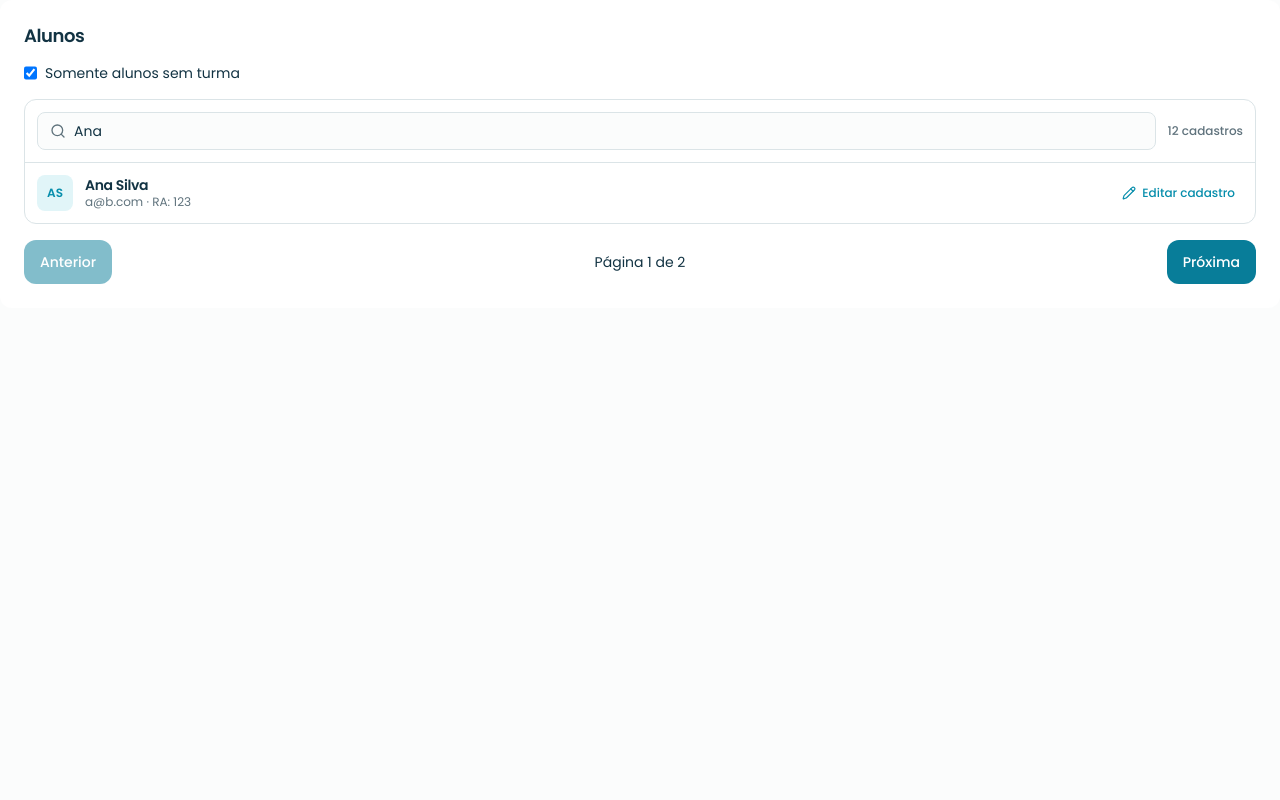
Test: formulário preserva dados ao falhar e lista permite editar/cancelar
Earlier steps of the test are not shown.
Click the button "Próxima".
click(1211, 262)  # box [1167,240,1256,284]
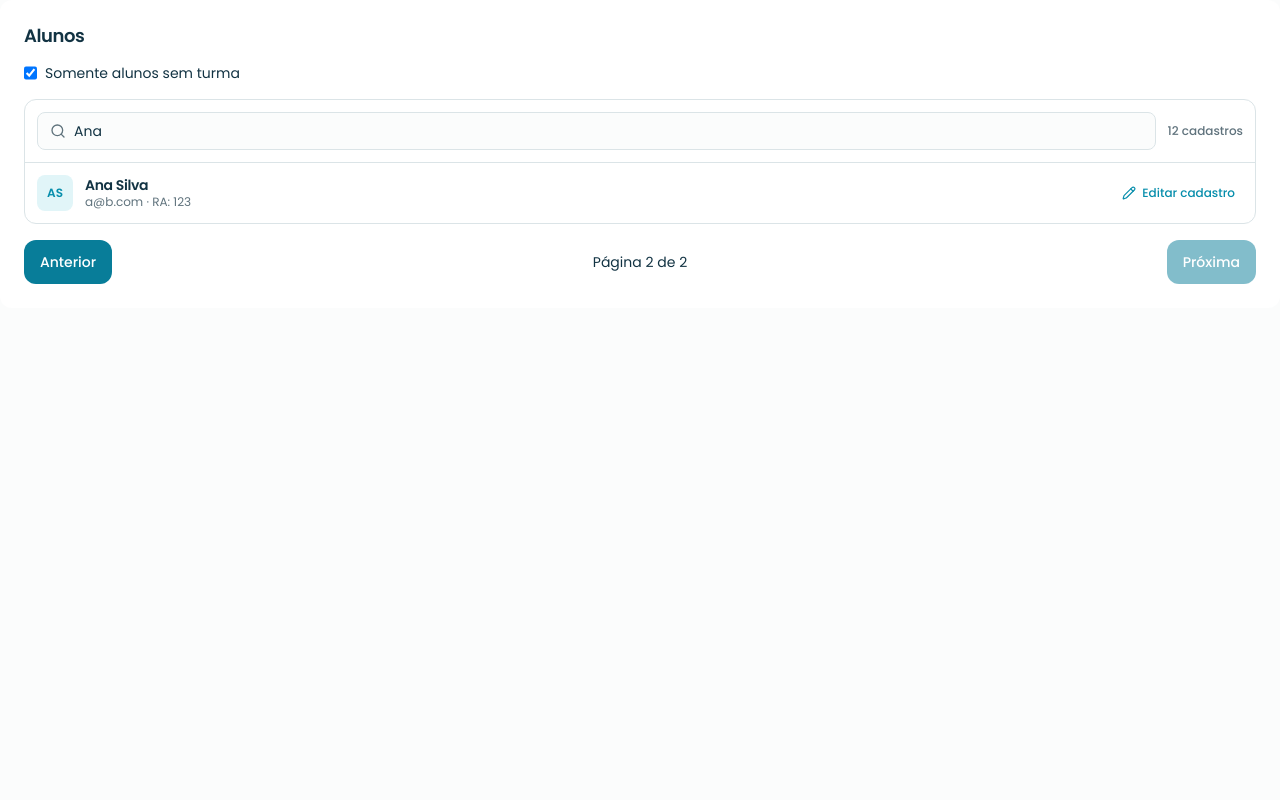
Click the button "Anterior".
click(68, 262)  # box [24,240,112,284]
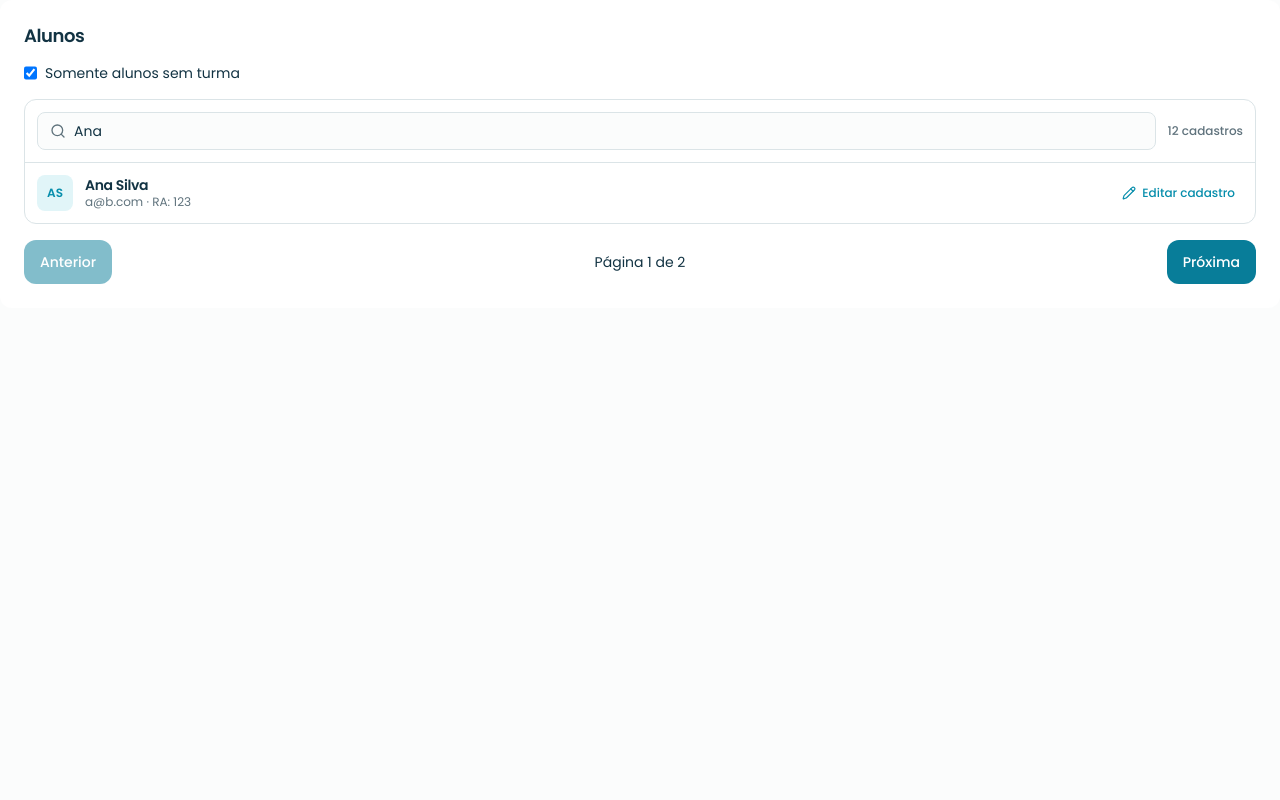
Click the button with aria-label "Editar cadastro de".
click(1179, 193)  # box [1114,181,1243,205]
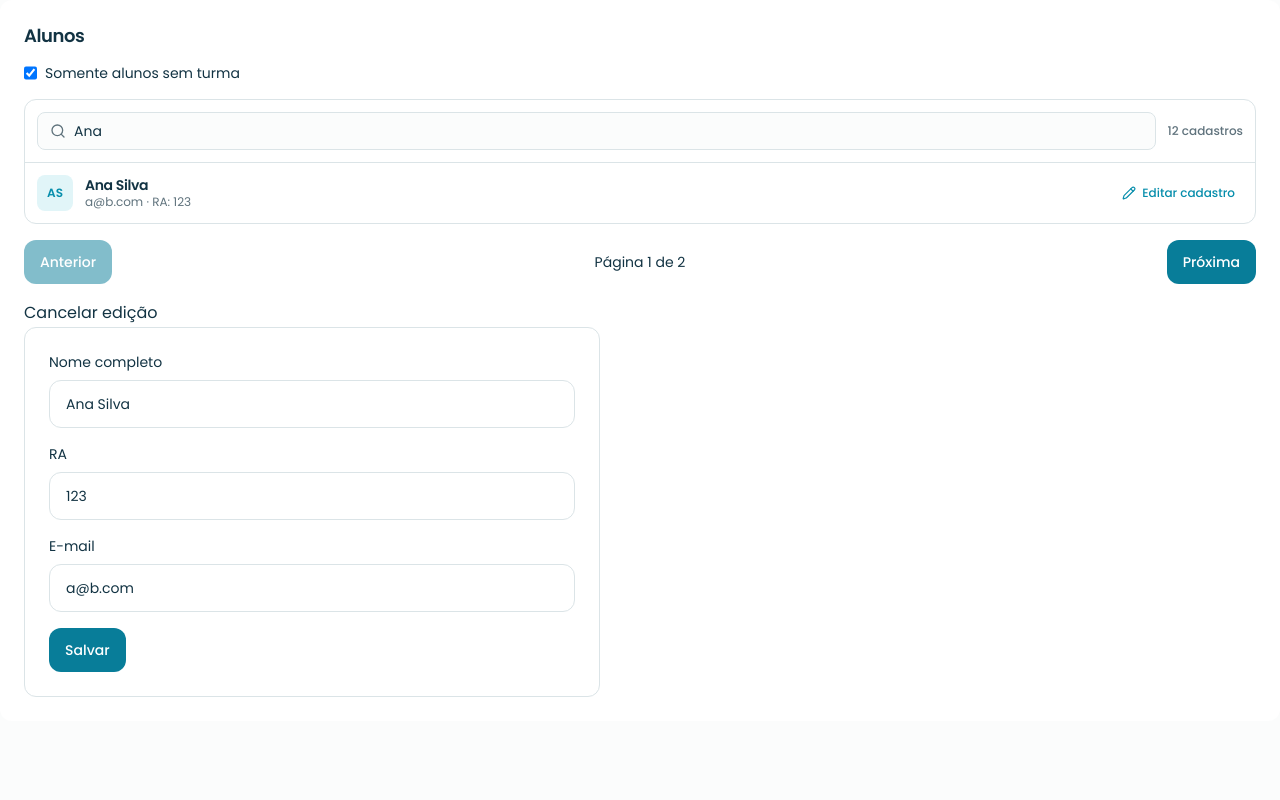
Submit the form, box [24,327,600,697]
Expected: the field labelled "Nome completo" holds "Ana Silva", [49,380,575,428]
Submit the form, box [24,327,600,697]
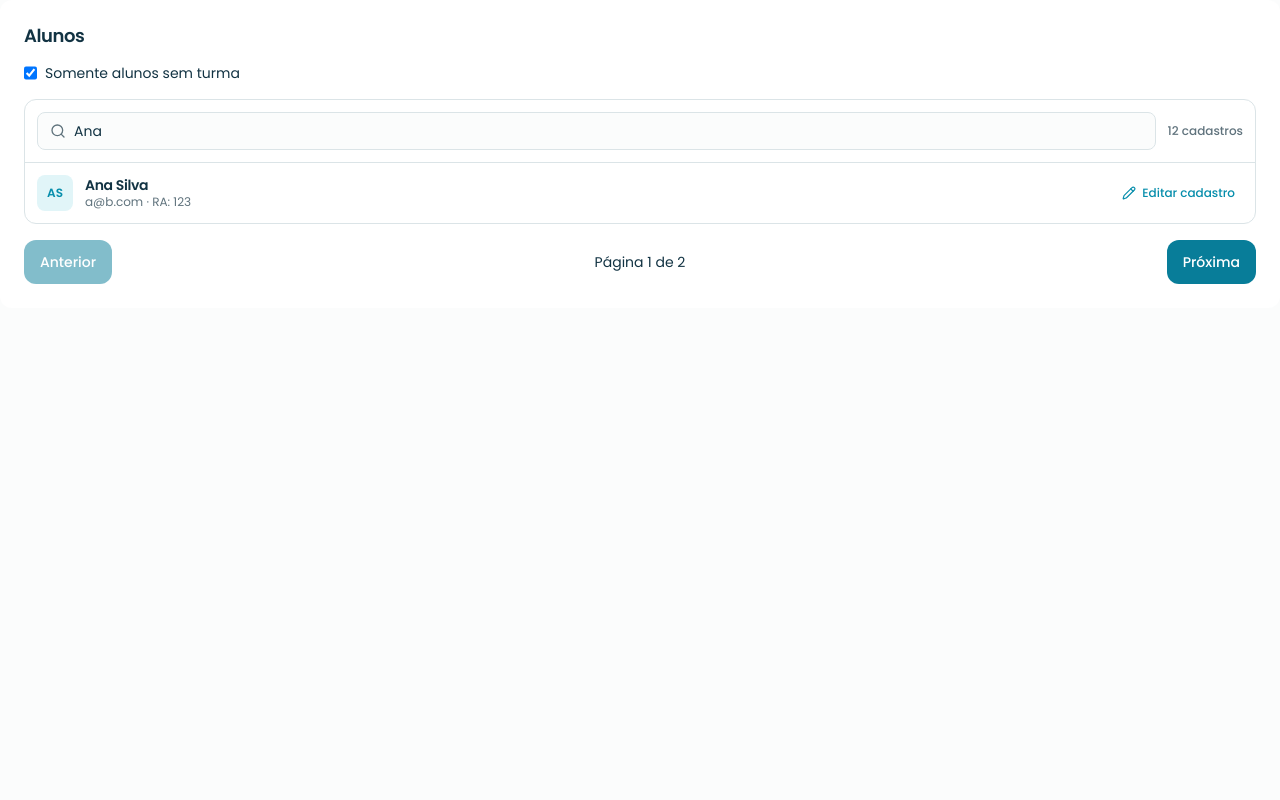
Expected: the label labelled "Nome completo" is gone
Click the button with aria-label "Editar cadastro de".
click(1179, 193)  # box [1114,181,1243,205]
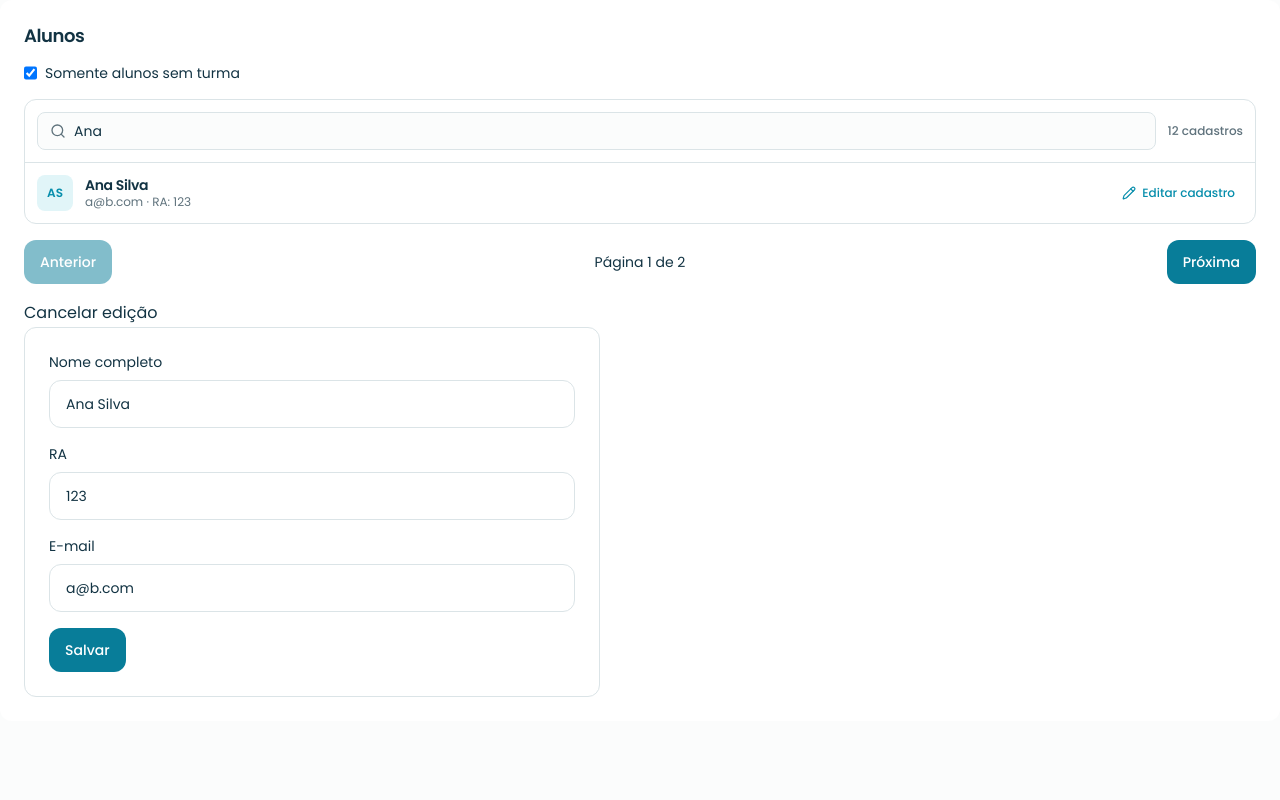
Click the button "Cancelar edição".
click(91, 314)  # box [24,300,158,327]
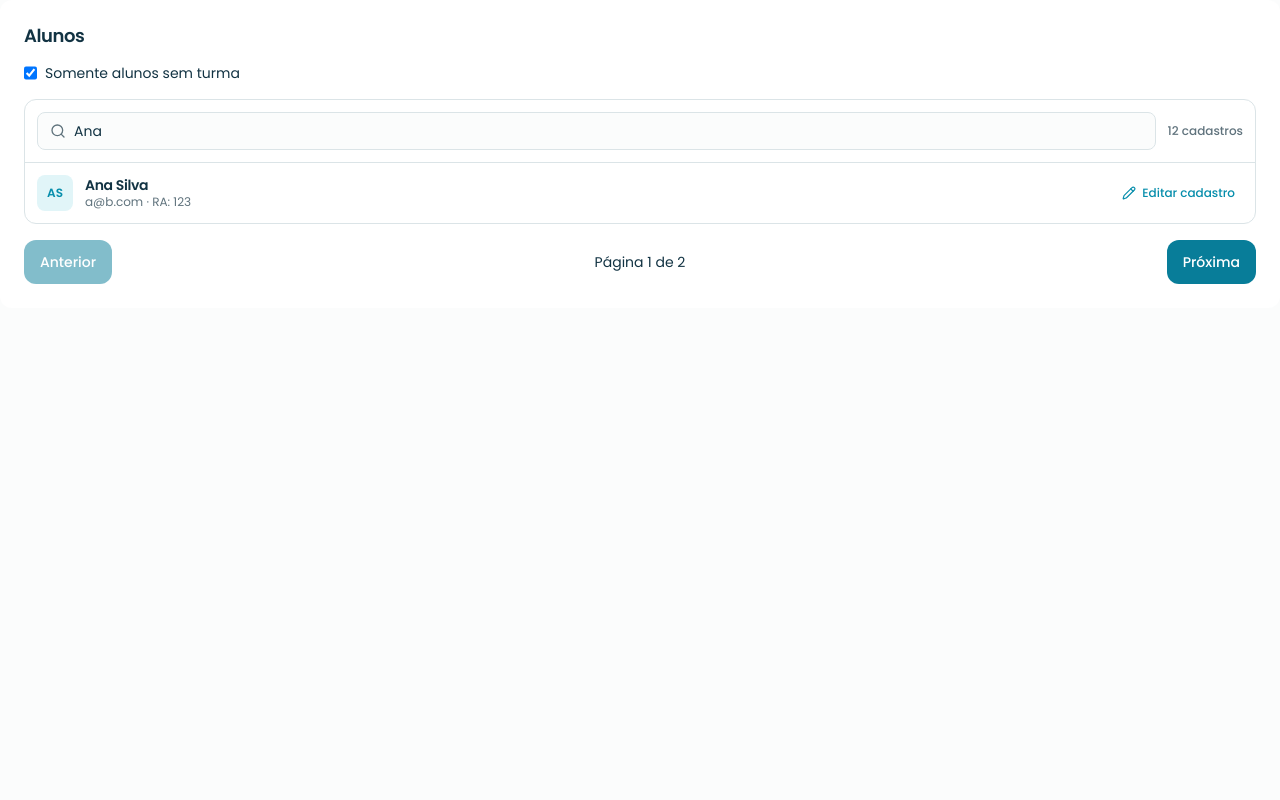
Expected: the label labelled "Nome completo" is gone
